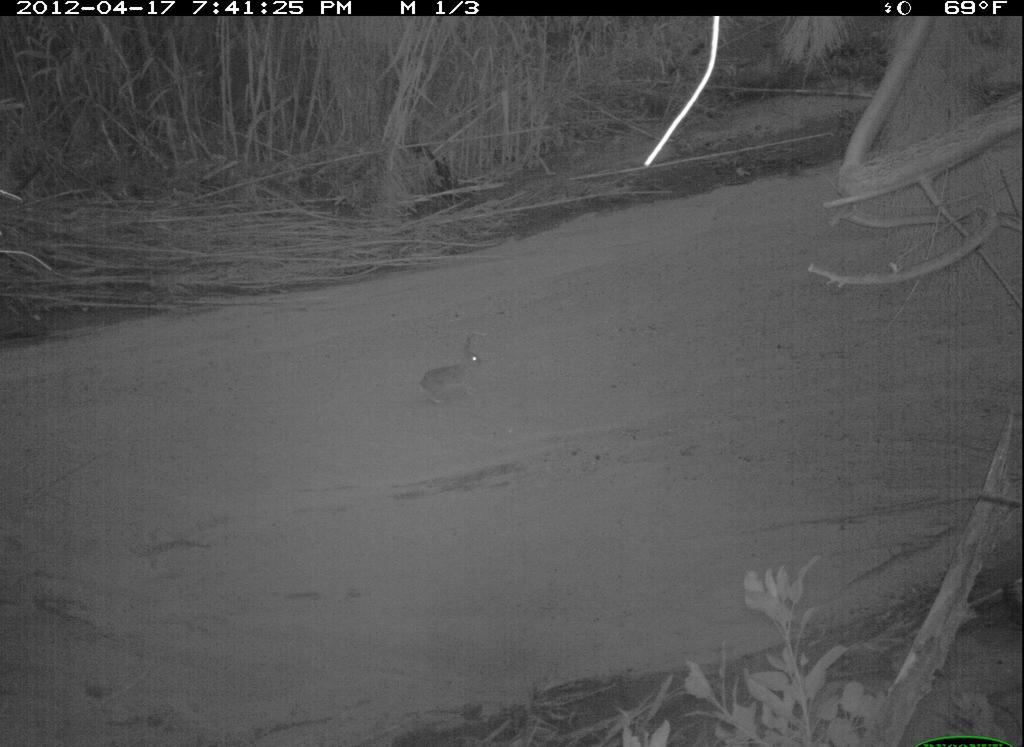rabbit: (408, 332, 503, 417)
